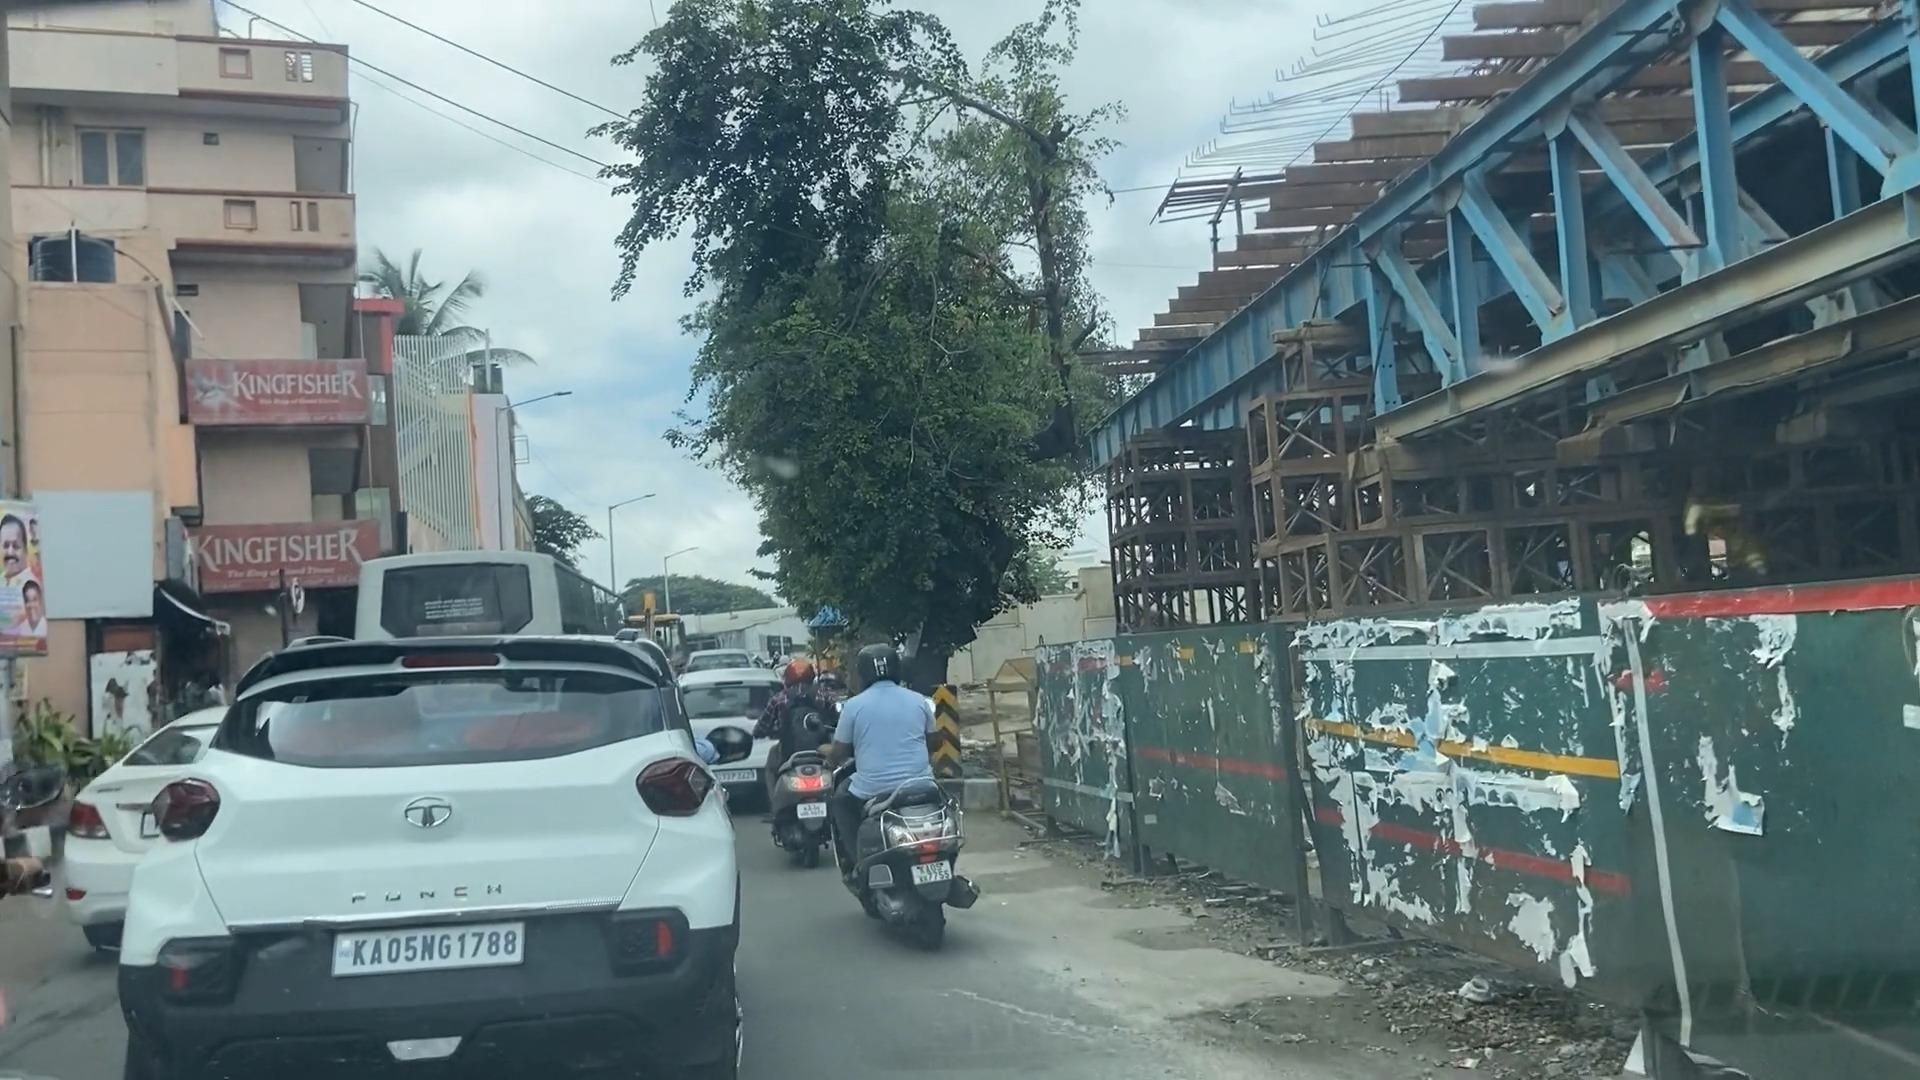LMV: (146, 608, 665, 1080), (844, 640, 955, 927), (762, 626, 827, 855)
RoadDamages: (967, 972, 1102, 1059)
